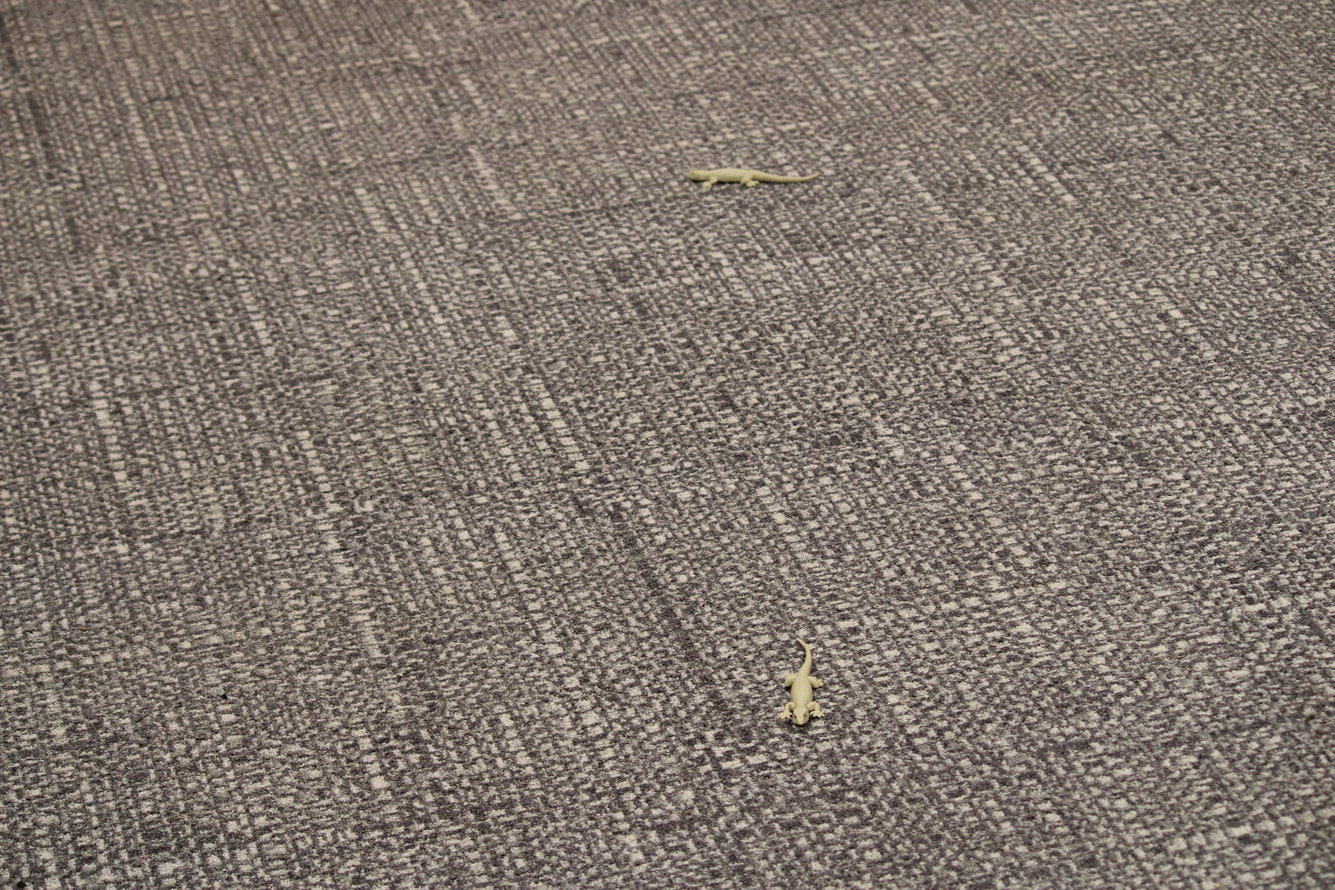lizard: (657, 150, 824, 203)
